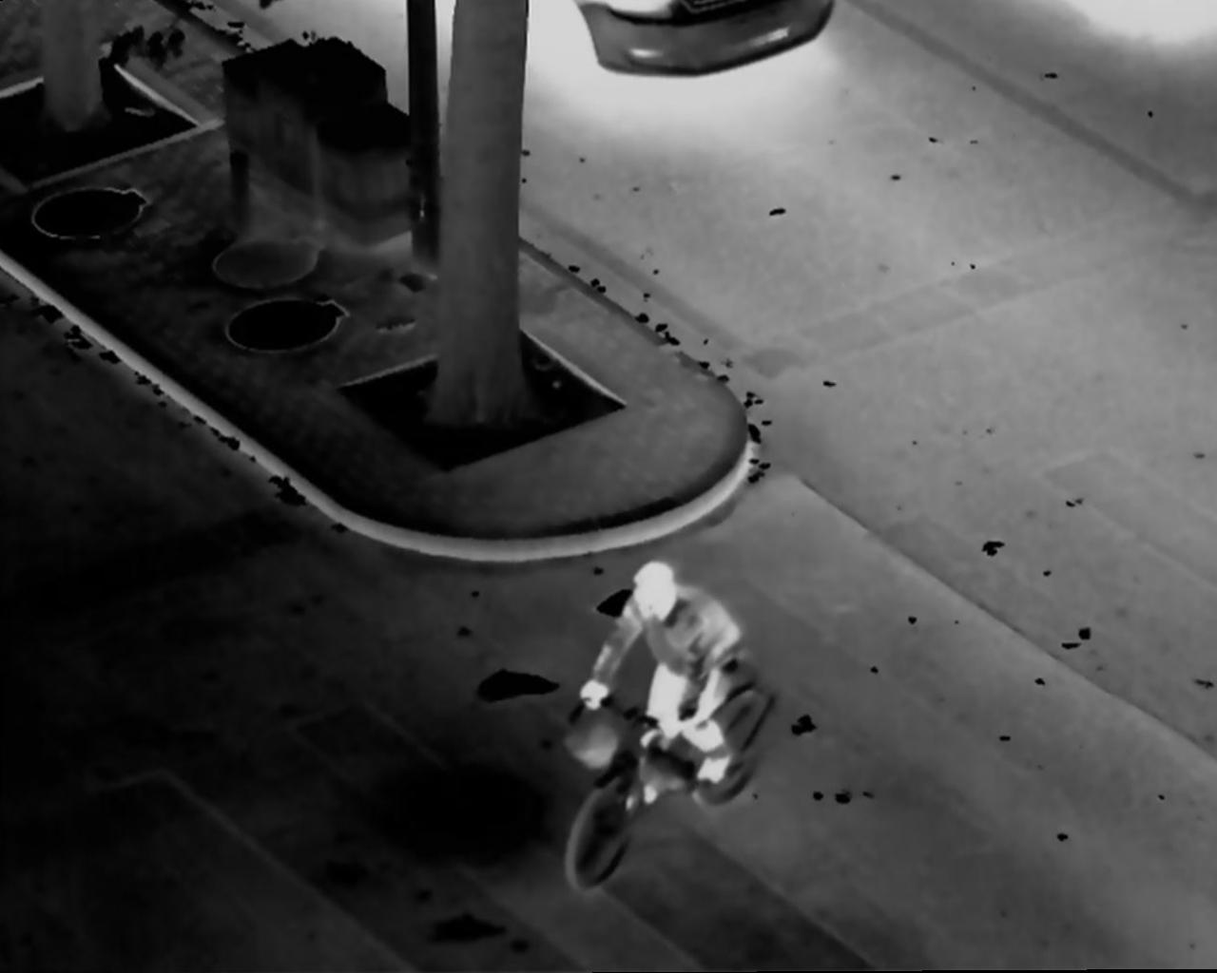person: (565, 561, 745, 799)
